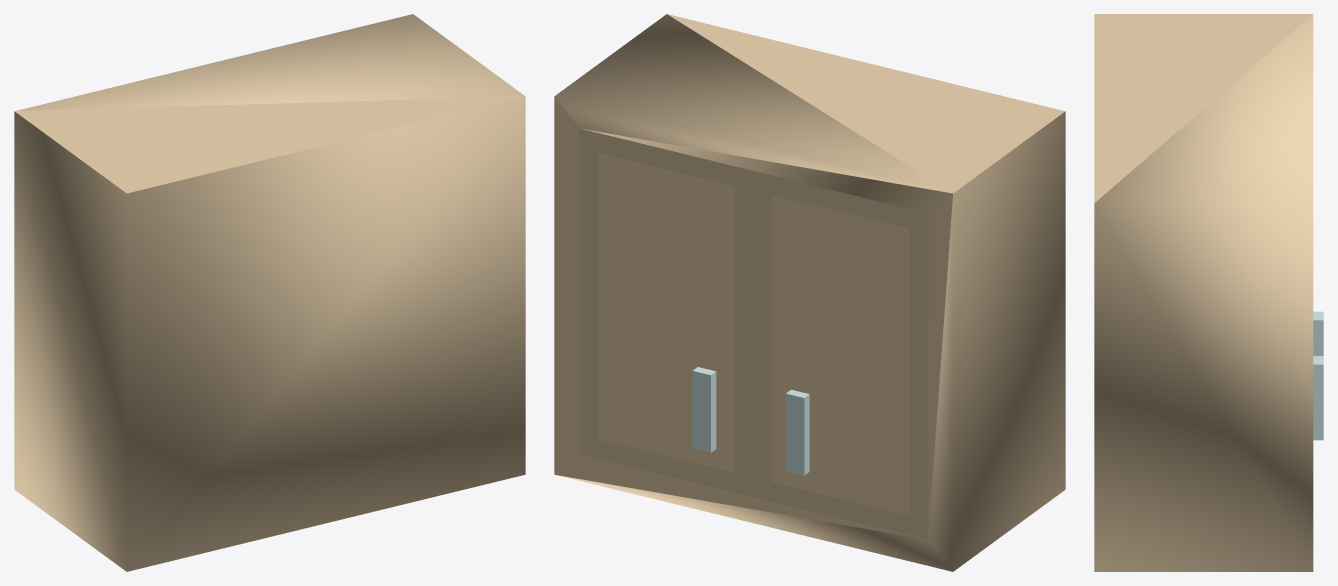
Rendered from kitchenCabinetUpperDouble.glb.
3 views of the same model, side by side, from view 1: azimuth 30°, elevation 25°; view 2: azimuth 150°, elevation 25°; view 3: azimuth 270°, elevation 25° (orthographic). The views are drawn at different scales.
Visible parts, largest first — view 1: kitchenCabinetUpperDouble; view 2: kitchenCabinetUpperDouble; view 3: kitchenCabinetUpperDouble.
Part boxes in pixels (bbox=[...]): kitchenCabinetUpperDouble: bbox=[14, 14, 525, 571]; kitchenCabinetUpperDouble: bbox=[554, 14, 1065, 571]; kitchenCabinetUpperDouble: bbox=[1094, 14, 1323, 571].
Bounding box in the file's own units: 4.3 × 3.9 × 2.2.
